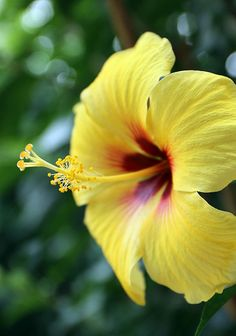Hibiscus: (17, 30, 233, 321)
